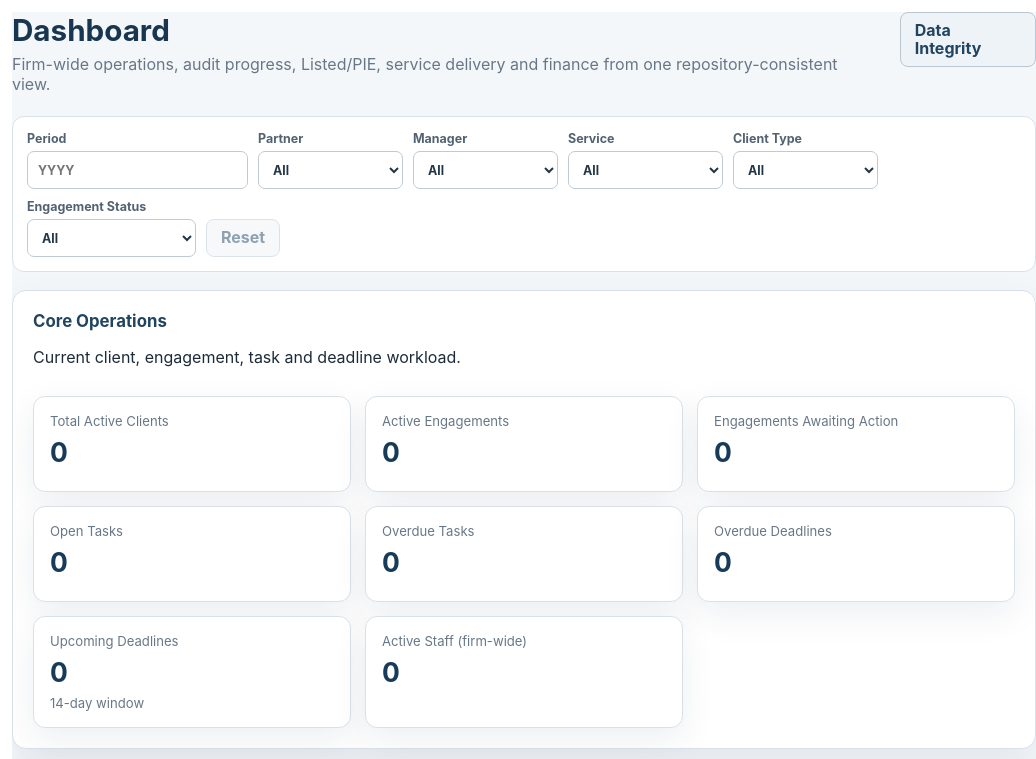
Test: Phase 6 integrated React interactions › dashboard filter clear action restores the unfiltered state
Type "2026" into the field labelled "Period" at [138, 170], box [27,151,248,189]
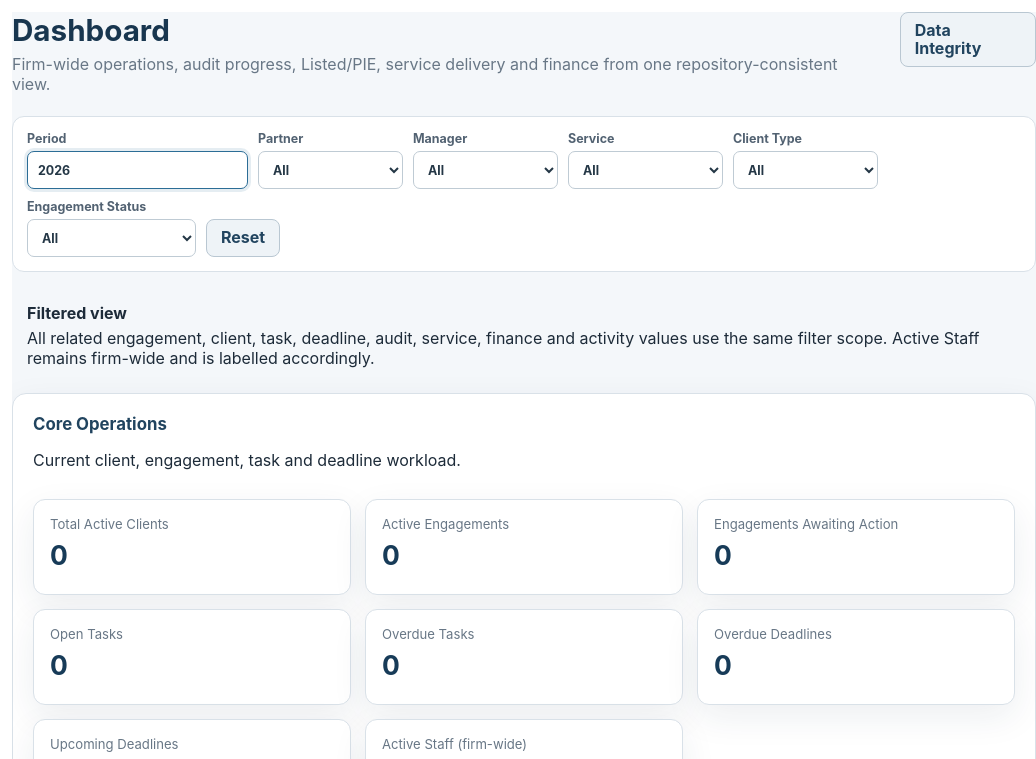
Expected: the text "Filtered view" is shown, [27,303,127,323]
Click the button "Reset" at [243, 238], box [206,219,280,257]
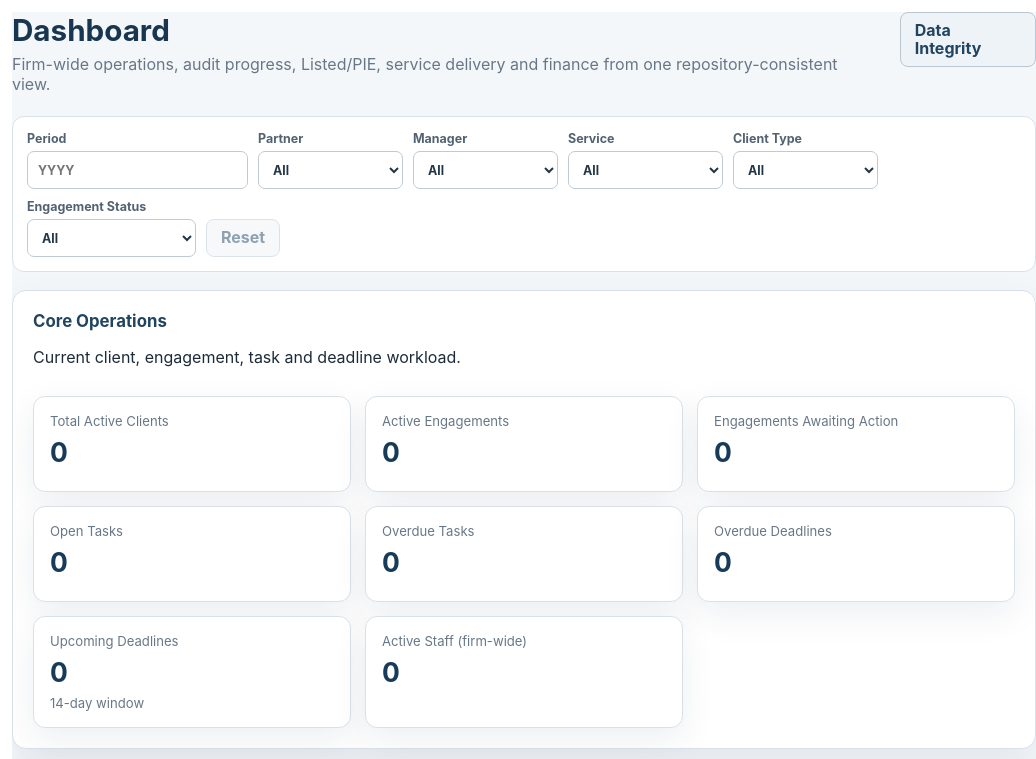
Expected: the field labelled "Period" is empty, [27,151,248,189]
